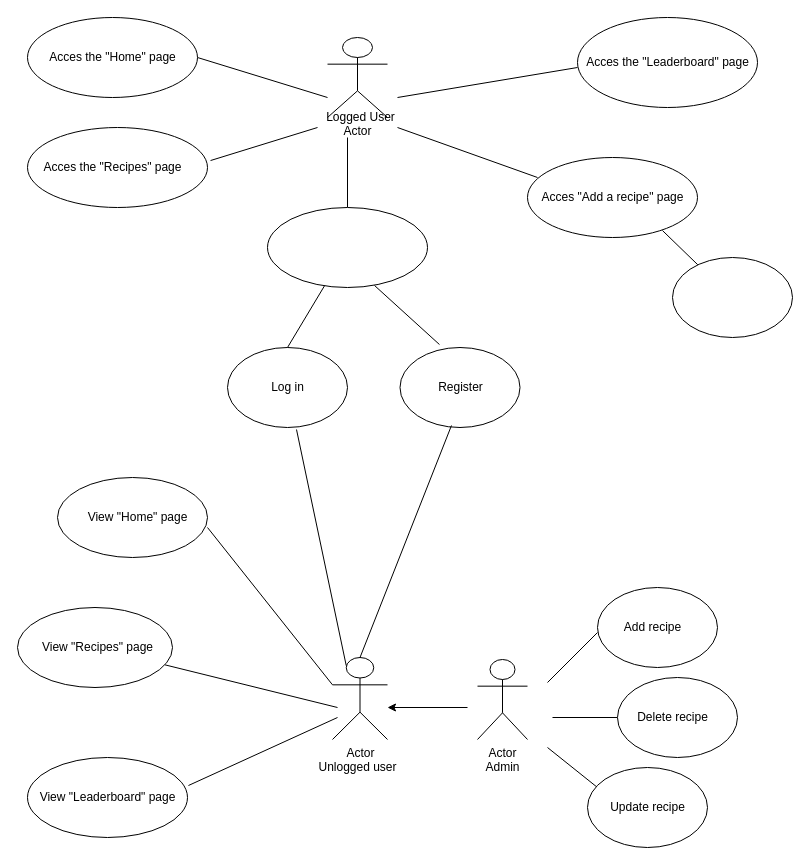
This 810x865 diagram has some shape labels left out. The centre of each missing label's shape, as x and y in pixels:
"Add a recipe" belongs at (732,297).
"Log out" belongs at (347,247).
